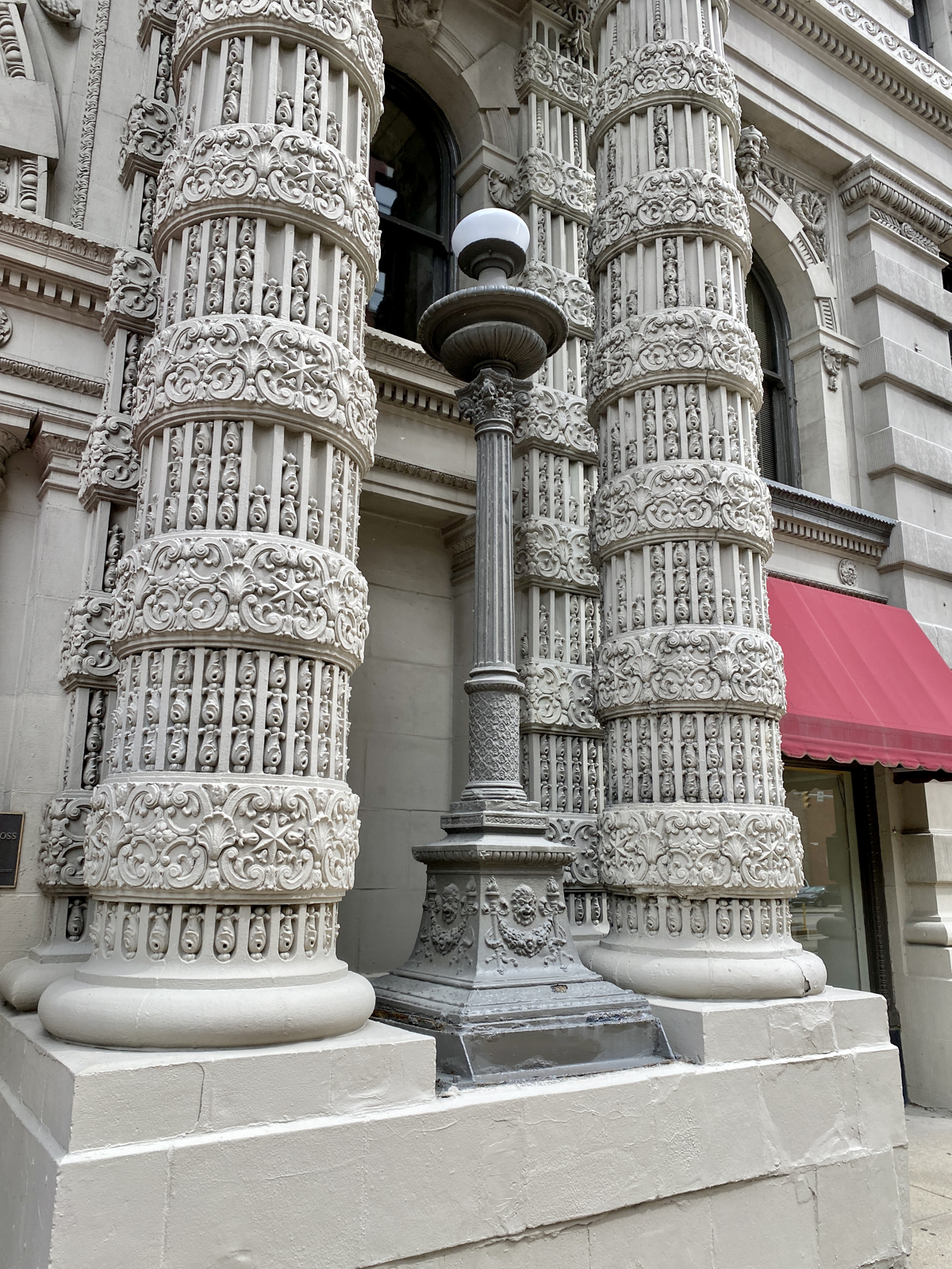fachada: (4, 0, 952, 1269)
poste: (405, 182, 607, 1003)
